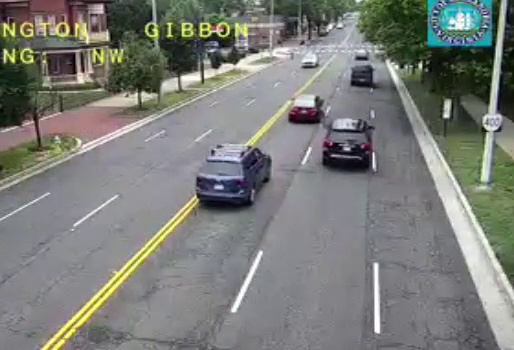car: (195, 144, 270, 201), (322, 118, 373, 161), (288, 94, 323, 122), (350, 66, 373, 86)
